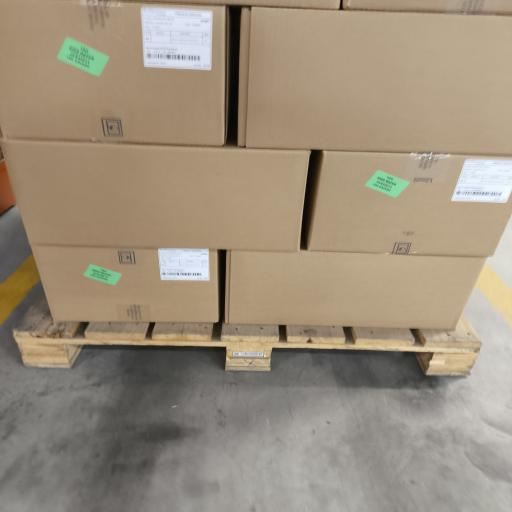pallet: (14, 298, 481, 375)
